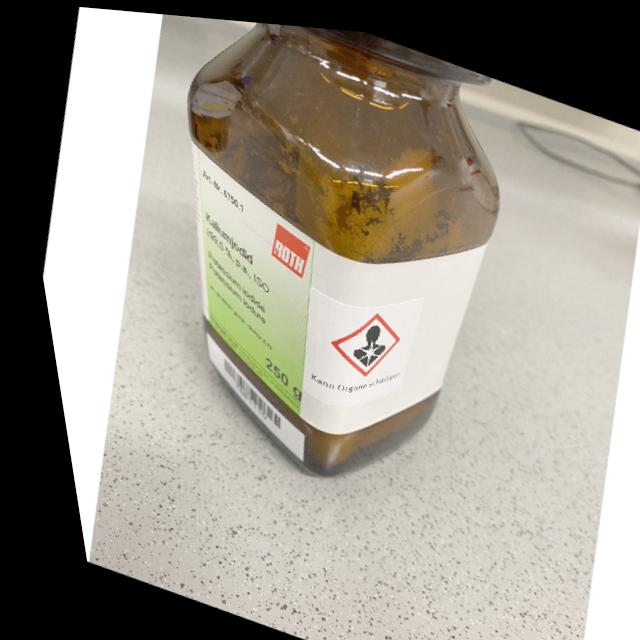serious health hazard: (336, 312, 382, 366)
